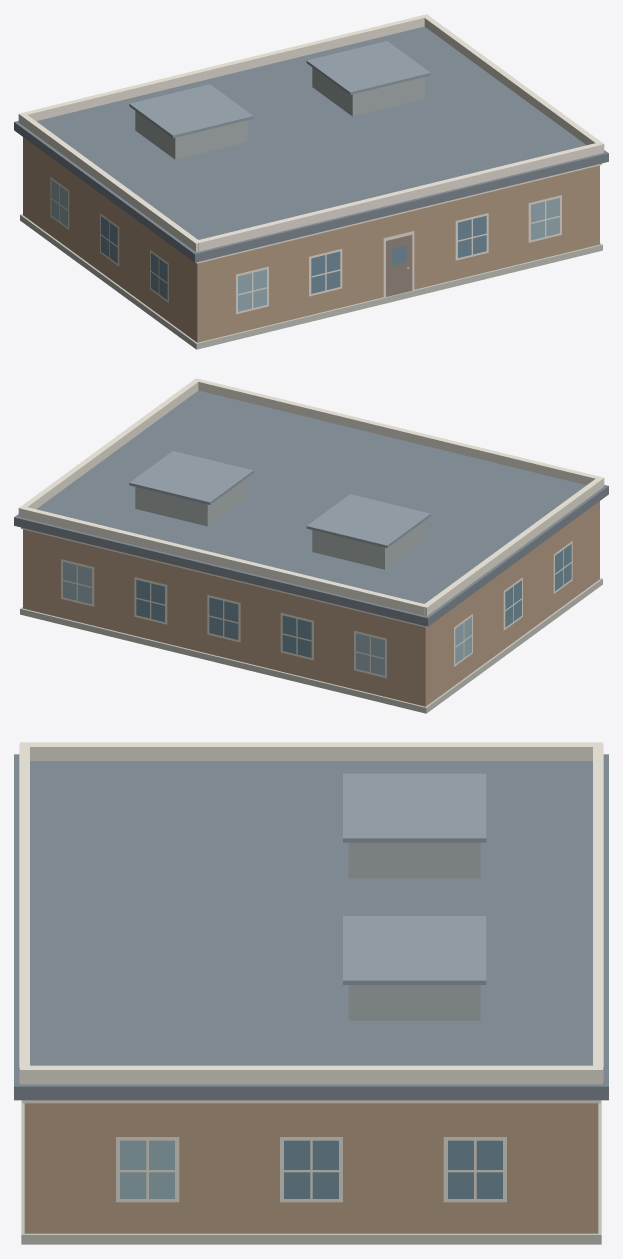
Rendered from civic-pavilion.glb.
3 views of the same model, one above another, from view 1: azimuth 30°, elevation 25°; view 2: azimuth 150°, elevation 25°; view 3: azimuth 270°, elevation 25° (orthographic). The views are drawn at different scales.
Visible parts, largest first — view 1: civic-pavilion; view 2: civic-pavilion; view 3: civic-pavilion.
Part boxes in pixels (bbox=[...]): civic-pavilion: bbox=[14, 14, 608, 349]; civic-pavilion: bbox=[14, 378, 608, 713]; civic-pavilion: bbox=[14, 742, 608, 1244].
Bounding box in the file's own units: 16.45 × 4.72 × 12.45.
